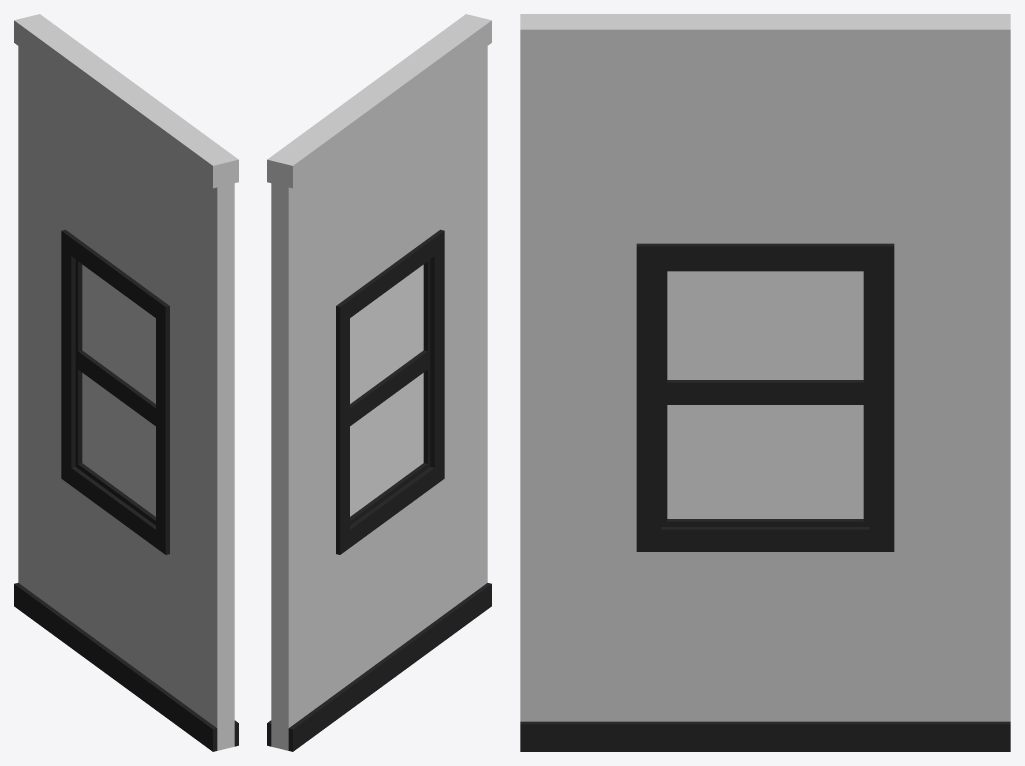
The model's file is wall_01_M_window.glb.
3 renders of one model, left to right at view 1: azimuth 30°, elevation 25°; view 2: azimuth 150°, elevation 25°; view 3: azimuth 270°, elevation 25°, orthographic. The views are drawn at different scales.
Visible parts, largest first — view 1: Untitled.001, Untitled; view 2: Untitled.001, Untitled; view 3: Untitled.001, Untitled.
Part boxes in pixels (x1,y1,x2,y2): Untitled.001: (14,14,238,751); Untitled: (82,264,155,516); Untitled.001: (267,14,491,751); Untitled: (350,264,423,516); Untitled.001: (520,14,1010,751); Untitled: (667,271,863,518).
Bounding box in the file's own units: 0.18 × 3.9 × 2.4.
2 materials, 2 textured.
